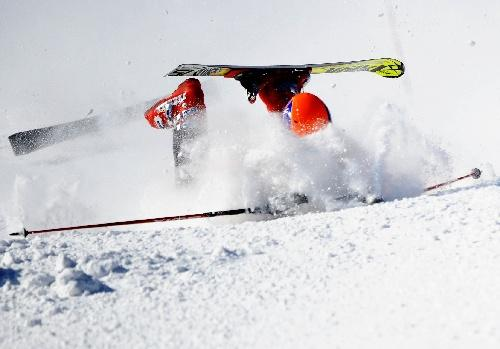fall: (116, 34, 486, 239)
